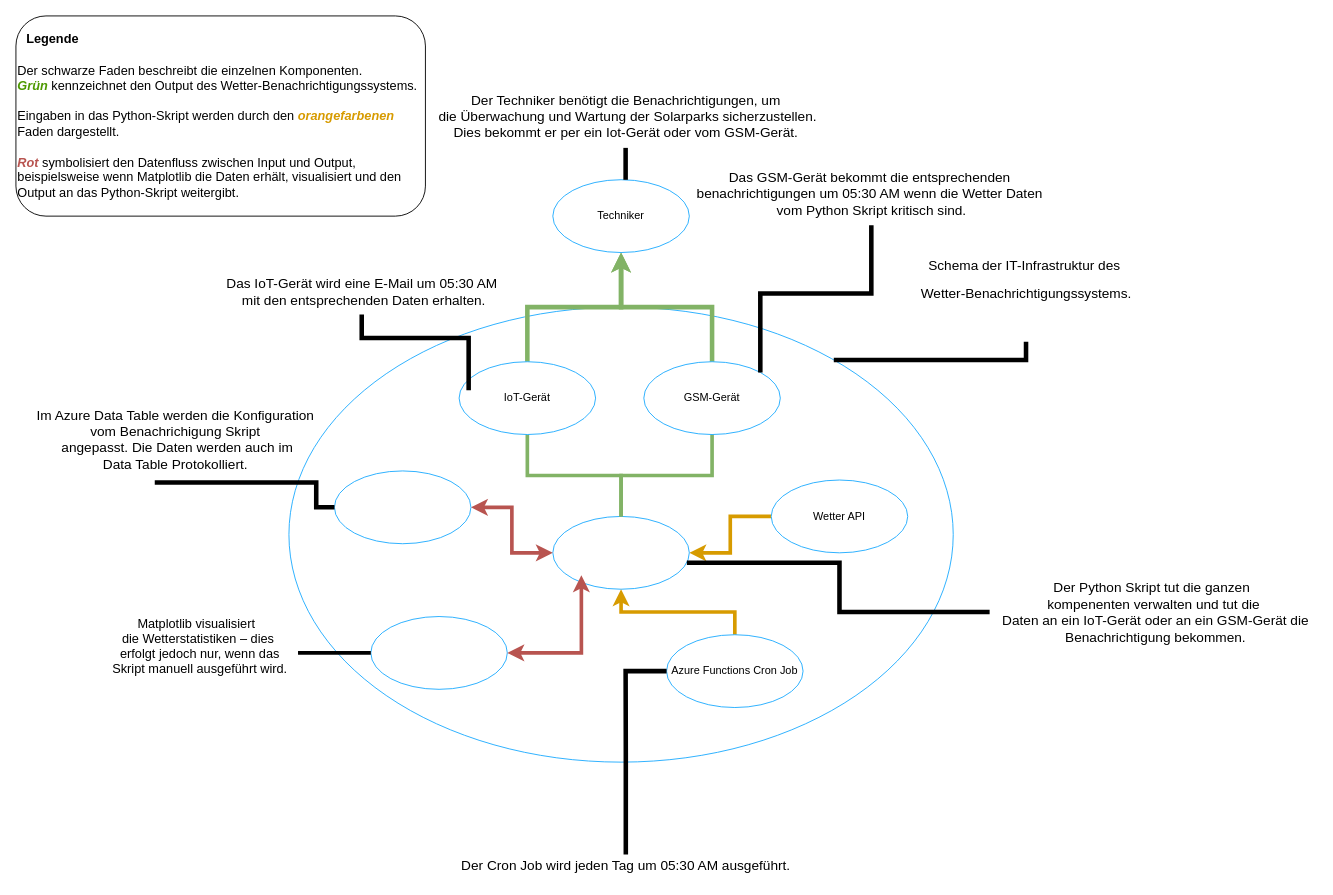
Image size: 1333x895. Some labels were removed from this diagram. Here are the shapes that lost their labels. From the top down, the centre of each, then its label:
At point (402, 507): "Azure Data Table".
At point (620, 552): "Python Skirpt".
At point (438, 652): "Matplotlib".
